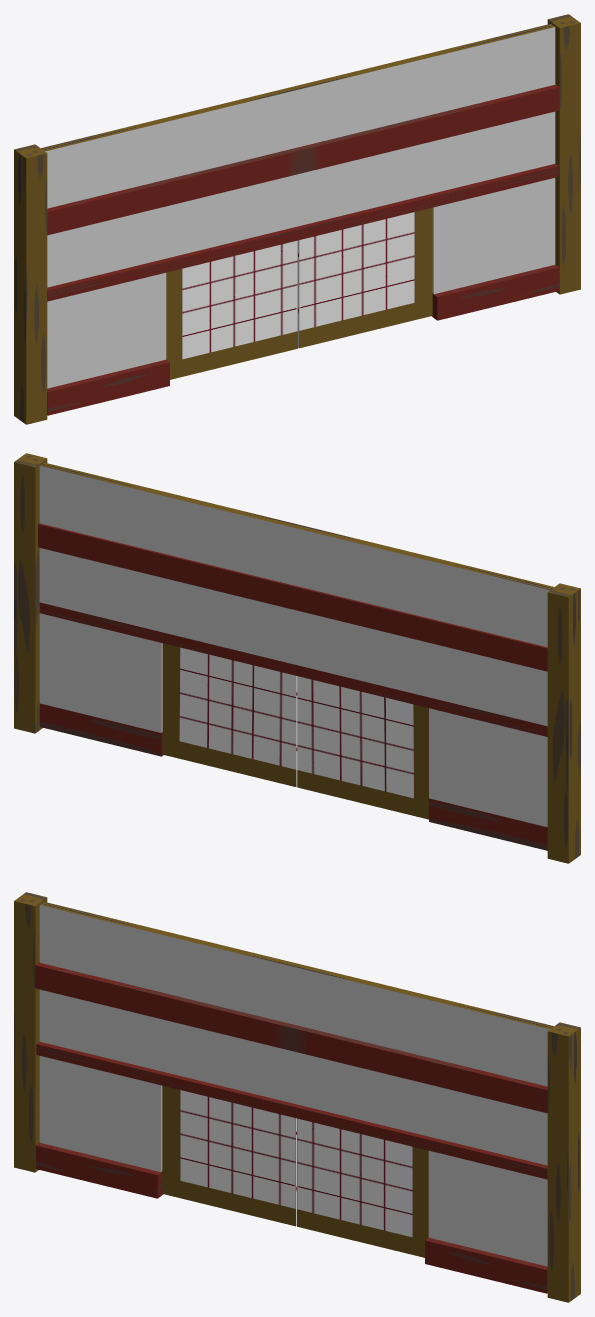
File: Assets2_Models.fbx
The picture shows the model from 3 angles, top to bottom: view 1: azimuth 30°, elevation 25°; view 2: azimuth 150°, elevation 25°; view 3: azimuth 330°, elevation 25°; orthographic projection.
Parts seen in each view (by area): view 1: ParedeFrente1Andar; view 2: ParedeFrente1Andar; view 3: ParedeFrente1Andar.
Boxes of the visible parts, box(x1,y1,x2,y2) form: ParedeFrente1Andar: box(14, 14, 580, 424); ParedeFrente1Andar: box(14, 453, 580, 863); ParedeFrente1Andar: box(14, 892, 580, 1302).
Bounding box in the file's own units: 4178 × 1917 × 161.
Materials: 4 (3 with a texture image).
